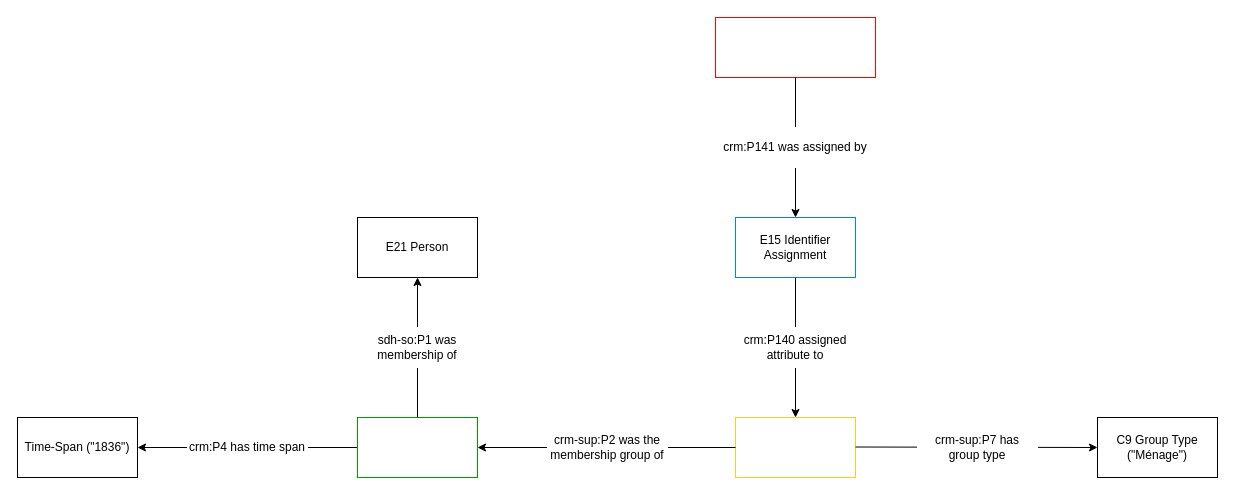
Some shapes in this 1235 by 495 pixel diagram are drawn without their labels. The shapes that lost their labels are listed below. From the top down, each one's centre as x and y in pixels, then its label:
the point at 795,47: E42 Identifier ( numero_ordre_menages )
the point at 417,447: C5 Membership
the point at 795,447: E74 Group
